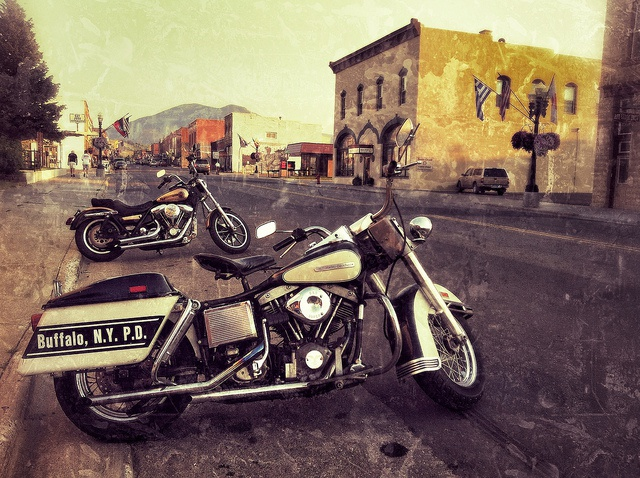non-vehicle: (15, 117, 485, 442), (65, 143, 250, 260)
